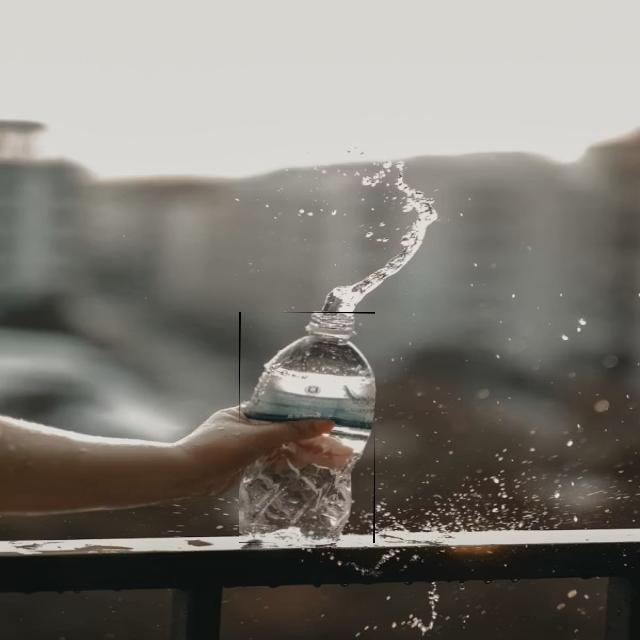Bottle: (238, 313, 374, 543)
